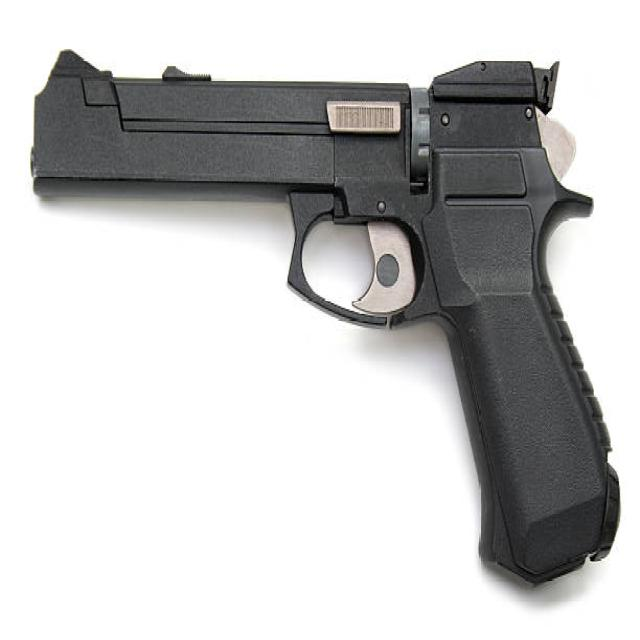pistol: (23, 30, 630, 592)
